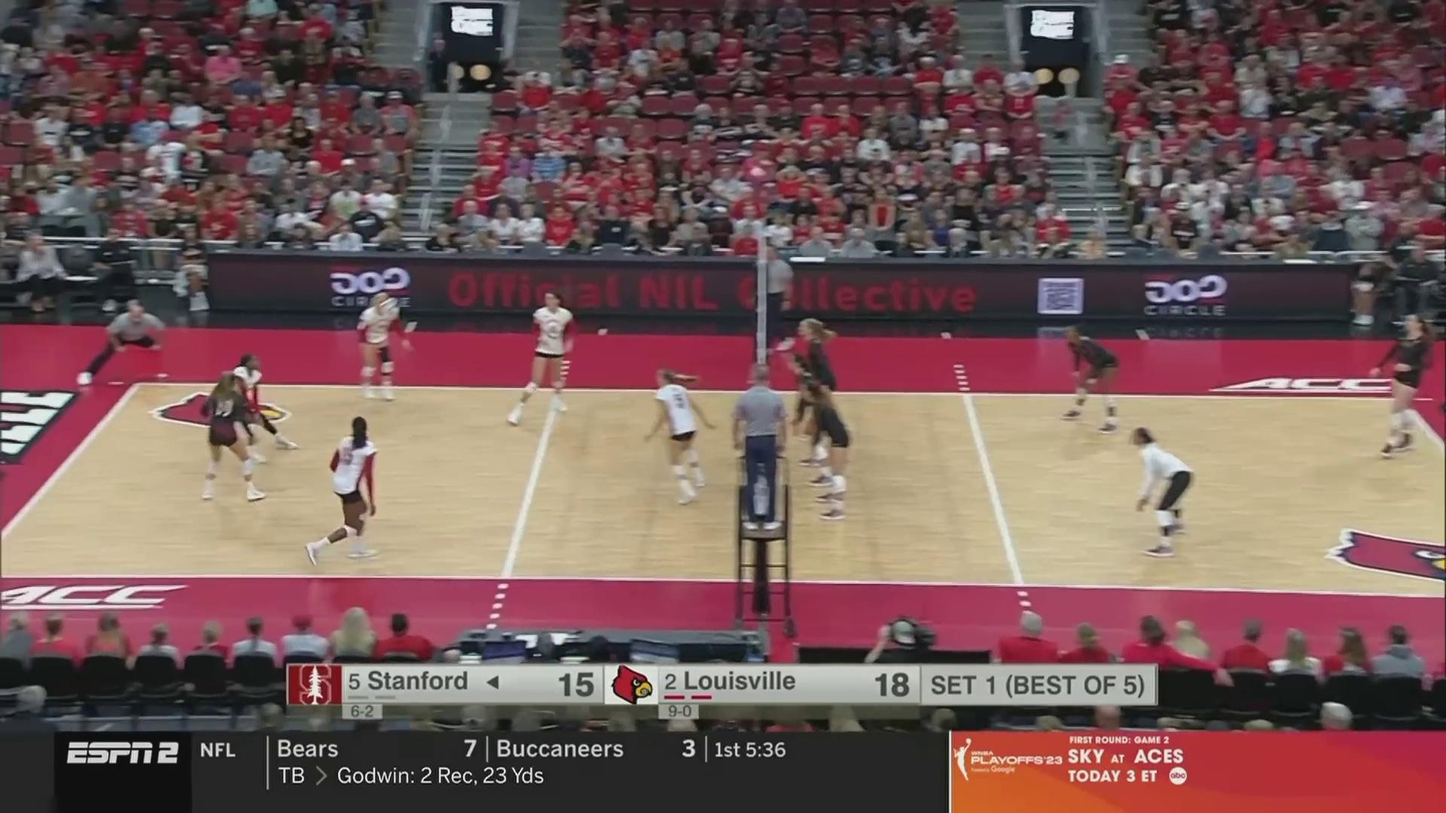player: (308, 423, 382, 565), (1368, 309, 1433, 459), (216, 354, 298, 466), (781, 318, 852, 444), (508, 297, 577, 425), (797, 375, 855, 525), (788, 353, 846, 501), (1133, 433, 1197, 561), (650, 374, 711, 506), (204, 380, 266, 501), (352, 292, 413, 402), (1058, 323, 1118, 427)
refree: (734, 375, 794, 537), (75, 303, 169, 389), (753, 244, 798, 354)
